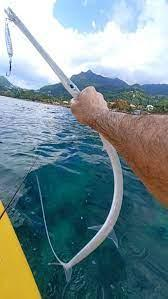Fistularia commersonii: (1, 10, 134, 282)
